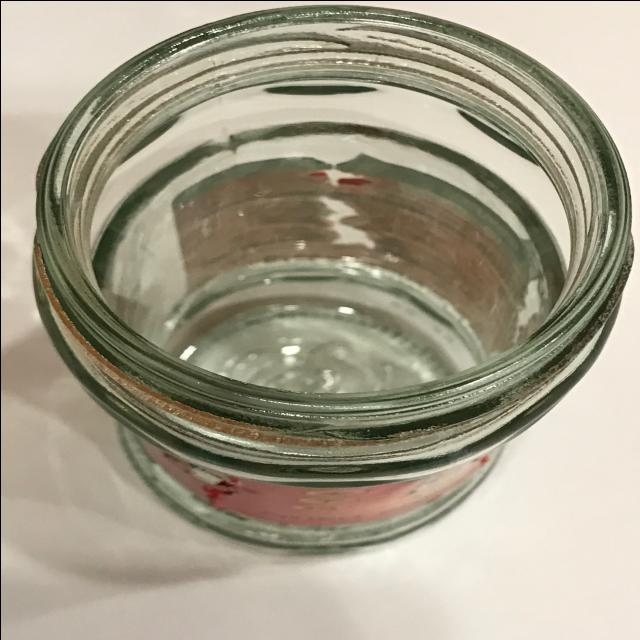glass: (21, 6, 627, 562)
